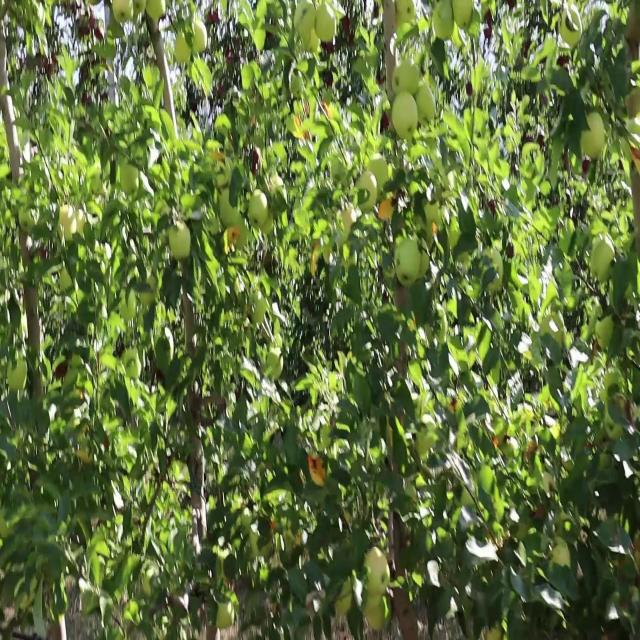apple: (584, 113, 608, 164), (560, 7, 584, 50), (396, 99, 419, 140), (364, 597, 389, 633), (172, 220, 192, 263), (432, 7, 455, 43), (396, 604, 419, 639), (416, 85, 436, 123), (248, 191, 269, 226), (400, 63, 422, 96), (308, 455, 328, 489), (120, 163, 140, 196), (192, 21, 208, 57), (625, 7, 640, 44), (400, 611, 419, 639), (392, 590, 410, 619), (456, 0, 474, 28), (176, 35, 192, 66), (80, 7, 96, 37), (380, 199, 397, 226), (224, 227, 241, 254), (68, 213, 86, 236), (312, 241, 322, 277), (84, 7, 96, 36), (628, 92, 640, 121), (204, 7, 220, 27), (44, 56, 58, 78), (252, 149, 261, 178), (484, 14, 493, 39), (56, 362, 68, 380), (344, 14, 352, 36), (536, 504, 546, 519), (633, 149, 640, 169), (384, 113, 391, 132), (208, 14, 220, 25), (488, 199, 496, 215), (96, 28, 104, 43), (584, 163, 590, 176)
